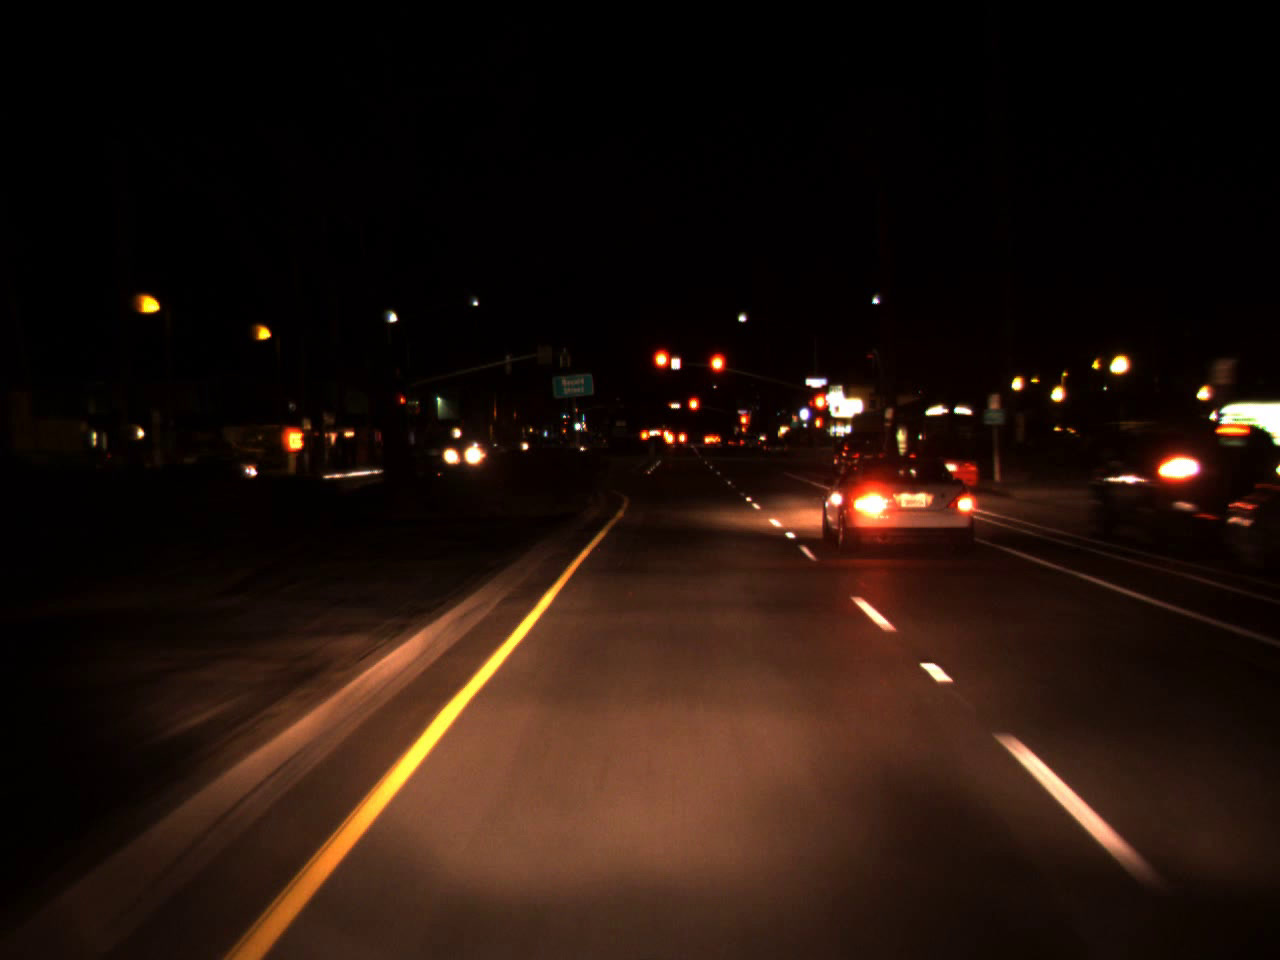stop: (810, 390, 831, 433), (651, 347, 672, 390), (707, 351, 726, 394), (686, 395, 701, 427), (739, 411, 749, 438)
